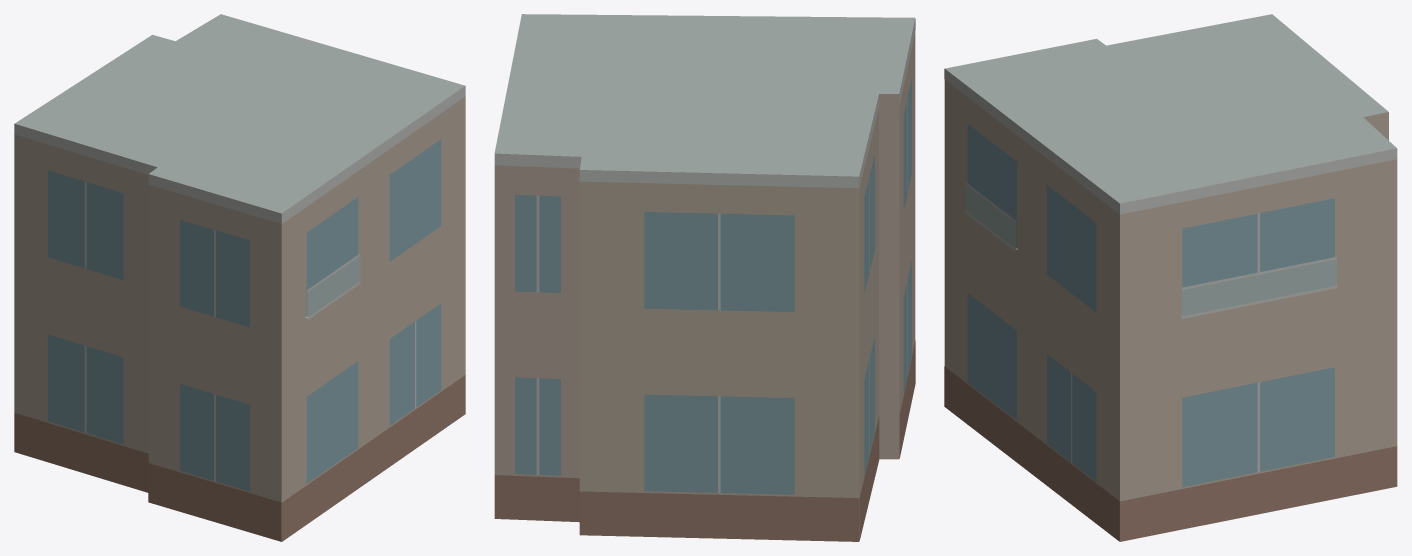
The model's file is survey-upis-32500607.glb.
3 renders of one model, left to right at view 1: azimuth 30°, elevation 25°; view 2: azimuth 150°, elevation 25°; view 3: azimuth 270°, elevation 25°, orthographic. The views are drawn at different scales.
Visible parts, largest first — view 1: survey-upis-32500607.tmp; view 2: survey-upis-32500607.tmp; view 3: survey-upis-32500607.tmp.
Boxes of the visible parts, box(x1,y1,x2,y2) form: survey-upis-32500607.tmp: box(14, 14, 465, 541); survey-upis-32500607.tmp: box(494, 14, 915, 541); survey-upis-32500607.tmp: box(944, 14, 1397, 541).
Size of the model in its own units: 9.15 by 7.6 by 9.23.
